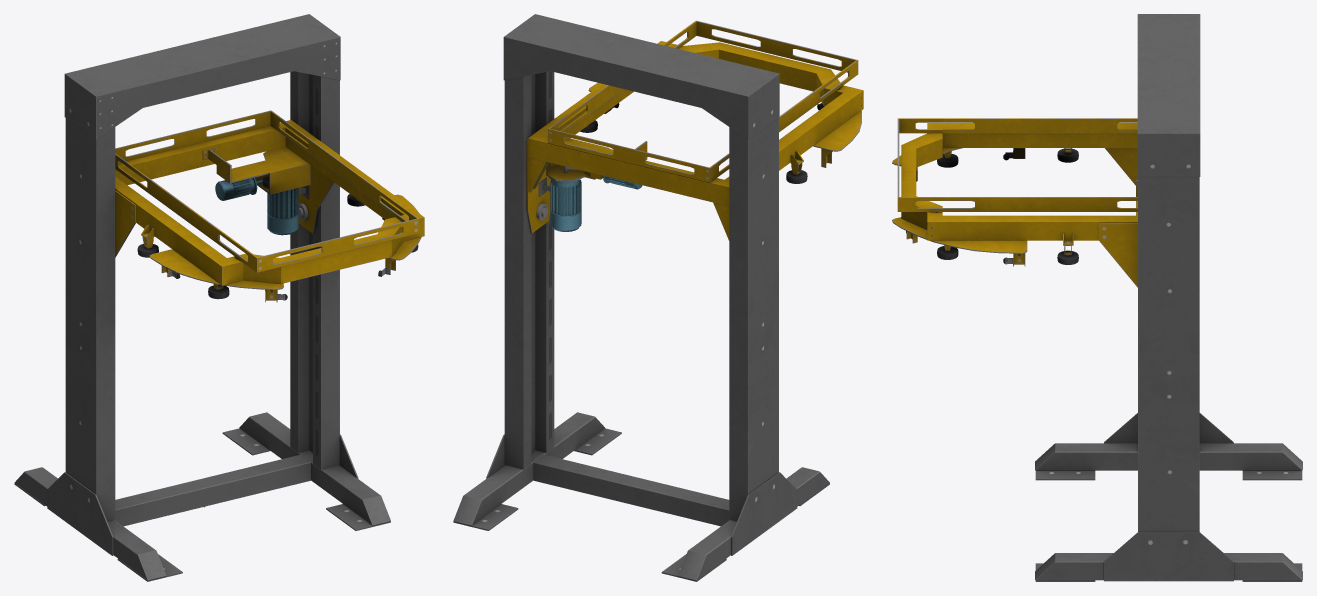
Rendered from Wrapper.fbx.
3 views of the same model, side by side, from view 1: azimuth 30°, elevation 25°; view 2: azimuth 150°, elevation 25°; view 3: azimuth 270°, elevation 25° (orthographic).
Parts seen in each view (by area): view 1: Stand, Arm; view 2: Stand, Arm; view 3: Stand, Arm.
Boxes of the visible parts, x1,y1,x2,y2 form: Stand: (14,14,390,581); Arm: (115,110,424,302); Stand: (453,14,829,581); Arm: (526,20,863,240); Stand: (1035,14,1302,581); Arm: (892,118,1137,287).
Size of the model in its own units: 149 by 255 by 210.
1 material, 1 textured.
